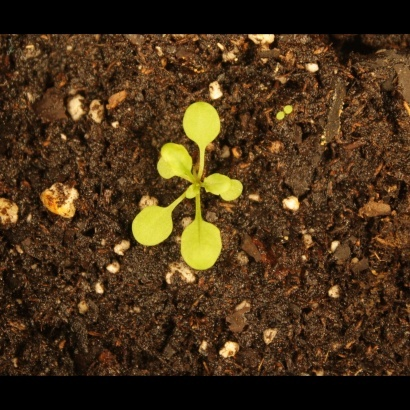leaf: (179, 212, 227, 280), (177, 100, 227, 150), (126, 202, 178, 250), (150, 139, 196, 190), (202, 164, 234, 201), (223, 176, 252, 213), (179, 180, 202, 203)
